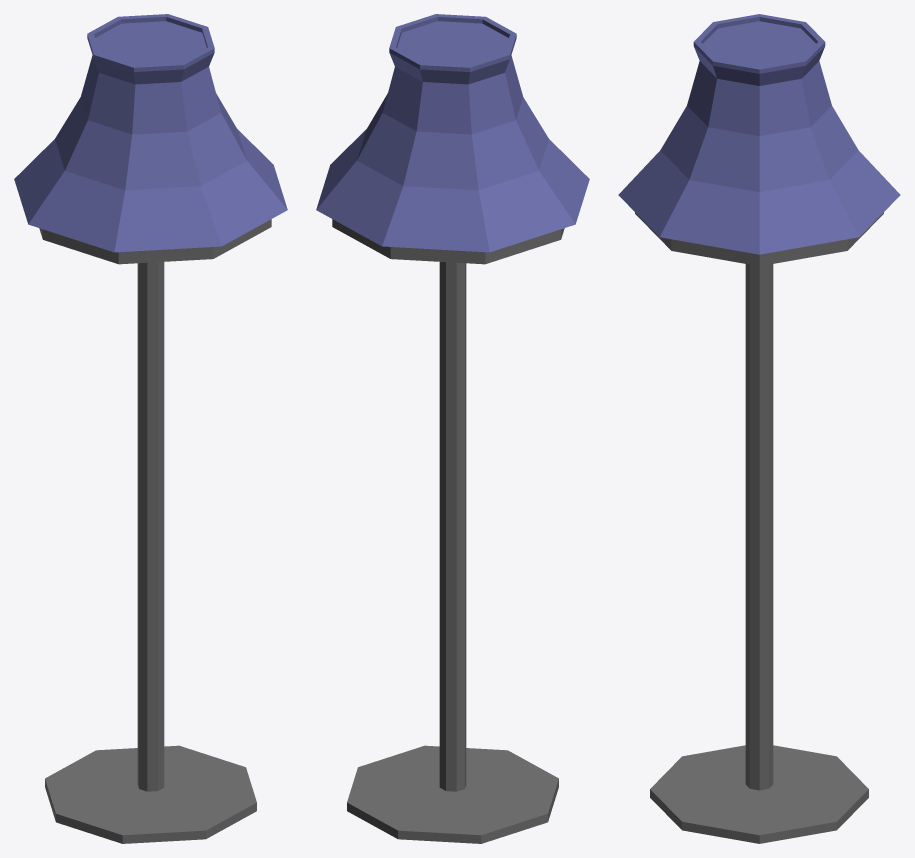
File: msh_lamp_01.fbx
The picture shows the model from 3 angles, left to right: view 1: azimuth 30°, elevation 25°; view 2: azimuth 150°, elevation 25°; view 3: azimuth 270°, elevation 25°; orthographic projection.
Visible parts, largest first — view 1: msh_lamp_01; view 2: msh_lamp_01; view 3: msh_lamp_01.
Part boxes in pixels (x1=…): msh_lamp_01: x1=14, y1=14, x2=287, y2=843; msh_lamp_01: x1=316, y1=14, x2=589, y2=843; msh_lamp_01: x1=618, y1=14, x2=900, y2=843.
Size of the model in its own units: 77.36 by 228 by 77.36.
